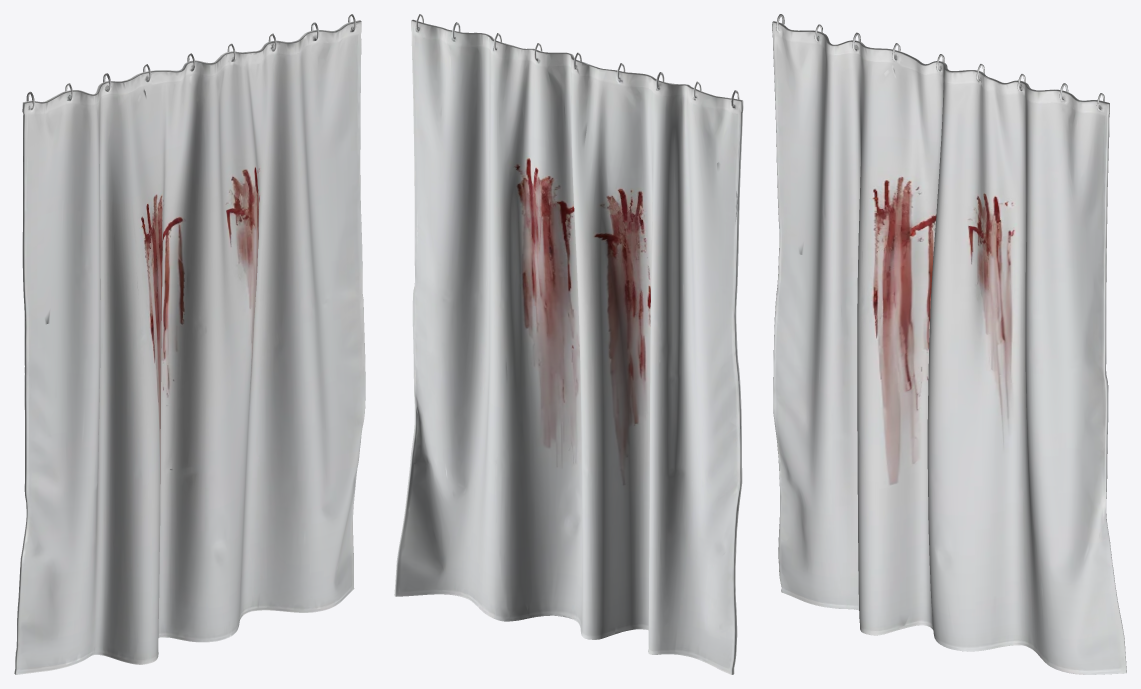
File: rideau.glb
The picture shows the model from 3 angles, left to right: view 1: azimuth 30°, elevation 25°; view 2: azimuth 150°, elevation 25°; view 3: azimuth 330°, elevation 25°; orthographic projection.
Visible parts, largest first — view 1: node_0; view 2: node_0; view 3: node_0.
Boxes of the visible parts, x1,y1,x2,y2 form: node_0: [14, 14, 365, 674]; node_0: [394, 14, 743, 674]; node_0: [772, 14, 1126, 674].
Size of the model in its own units: 62.45 by 102 by 9.55.
Materials: 1 (1 with a texture image).
